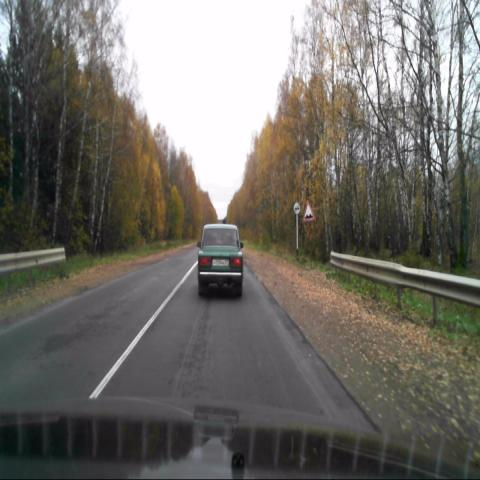1_16: (303, 201, 315, 221)
